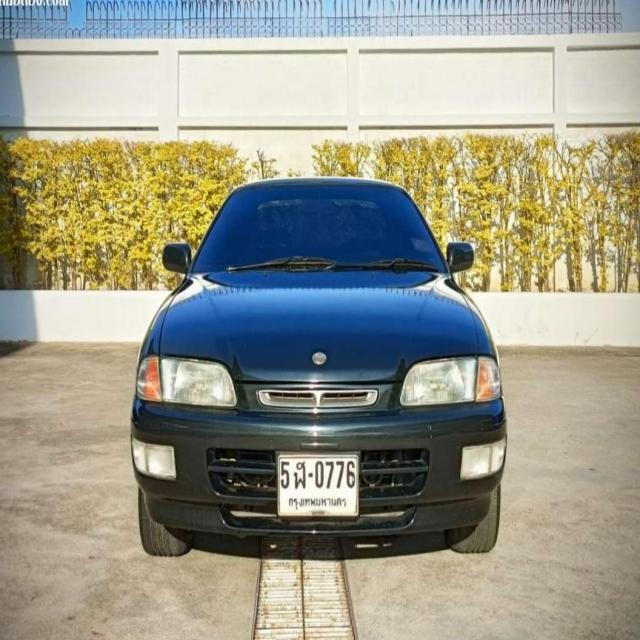license_plate: (276, 442, 362, 527)
